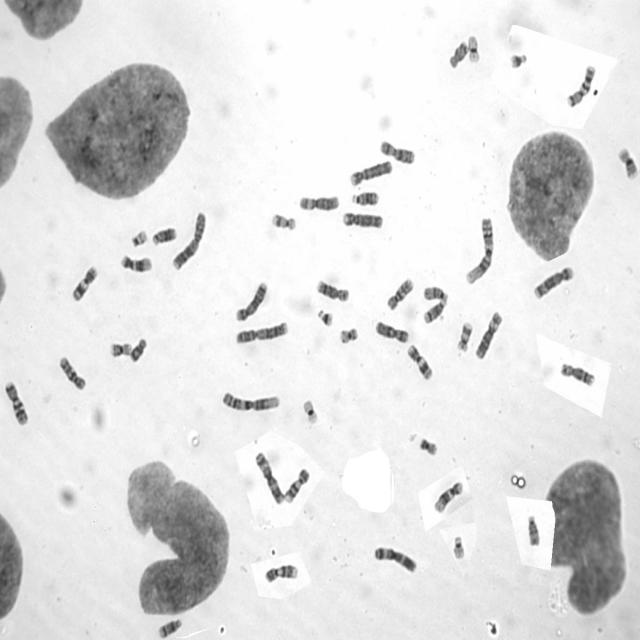A1: (463, 214, 496, 286), (220, 388, 282, 413)
A2: (170, 210, 208, 272), (233, 317, 290, 345)
A3: (252, 448, 285, 507), (372, 544, 418, 574)
B4: (347, 157, 393, 187), (340, 209, 384, 230)
B5: (531, 263, 575, 300), (234, 278, 269, 323)
C10: (57, 352, 87, 392), (384, 275, 414, 312)
C11: (70, 262, 99, 304), (405, 341, 434, 382)
C12: (432, 477, 464, 515), (118, 252, 154, 274)
C6: (473, 309, 503, 360), (297, 192, 340, 212)
C7: (564, 63, 597, 108), (3, 377, 29, 426)
C8: (558, 360, 596, 388), (314, 277, 350, 302)
C9: (282, 465, 310, 504), (262, 560, 298, 584)
D13: (150, 224, 178, 247), (350, 189, 380, 207)
D14: (422, 292, 450, 326), (156, 616, 183, 640)
D15: (524, 512, 541, 549), (424, 286, 448, 301)
E16: (615, 144, 639, 180), (108, 338, 132, 358)
E17: (455, 319, 474, 353), (270, 210, 297, 232)
E18: (446, 37, 469, 70), (128, 335, 148, 363)
F19: (300, 396, 320, 426), (466, 32, 481, 64)
F20: (417, 436, 439, 458), (338, 326, 359, 345)
G21: (507, 49, 529, 70), (315, 306, 335, 326)
G22: (450, 532, 467, 562), (129, 227, 149, 249)
X: (378, 137, 416, 165), (374, 317, 410, 343)
